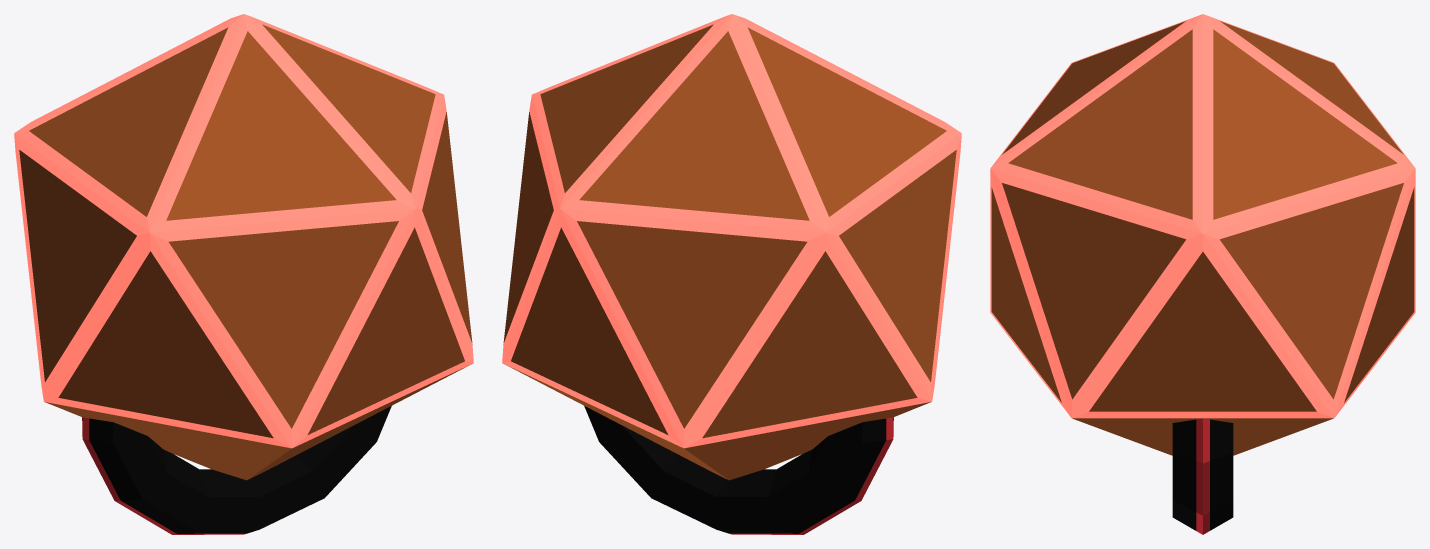
File: BombEnemy.fbx
3 renders of one model, left to right at view 1: azimuth 30°, elevation 25°; view 2: azimuth 150°, elevation 25°; view 3: azimuth 270°, elevation 25°, orthographic. The views are drawn at different scales.
Parts seen in each view (by area): view 1: Icosphere, Torus; view 2: Icosphere, Torus; view 3: Icosphere, Torus.
Boxes of the visible parts, x1,y1,x2,y2 form: Icosphere: [14, 14, 473, 480]; Torus: [82, 406, 391, 534]; Icosphere: [502, 14, 961, 480]; Torus: [584, 406, 893, 534]; Icosphere: [990, 14, 1415, 455]; Torus: [1172, 418, 1233, 534].
Size of the model in its own units: 179 by 222 by 170.
